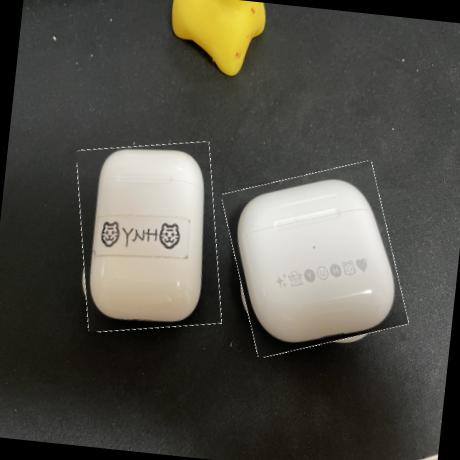airpod2: (65, 133, 232, 340)
airpod3: (216, 156, 412, 362)
